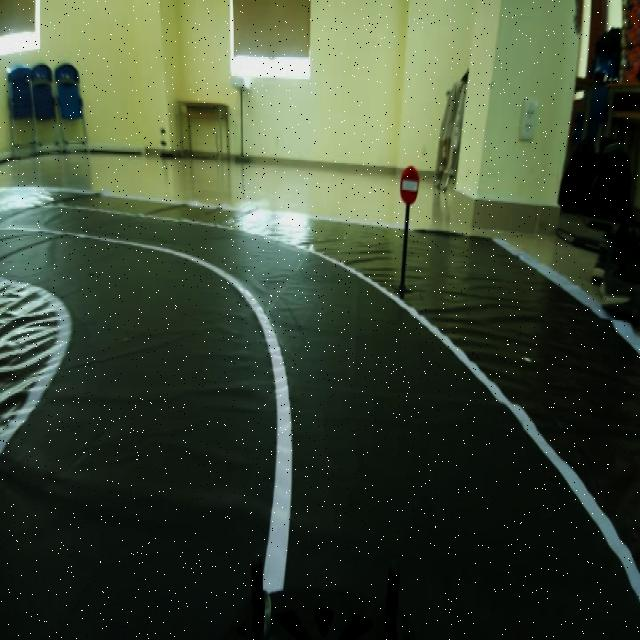no_entry: (397, 152, 422, 214)
